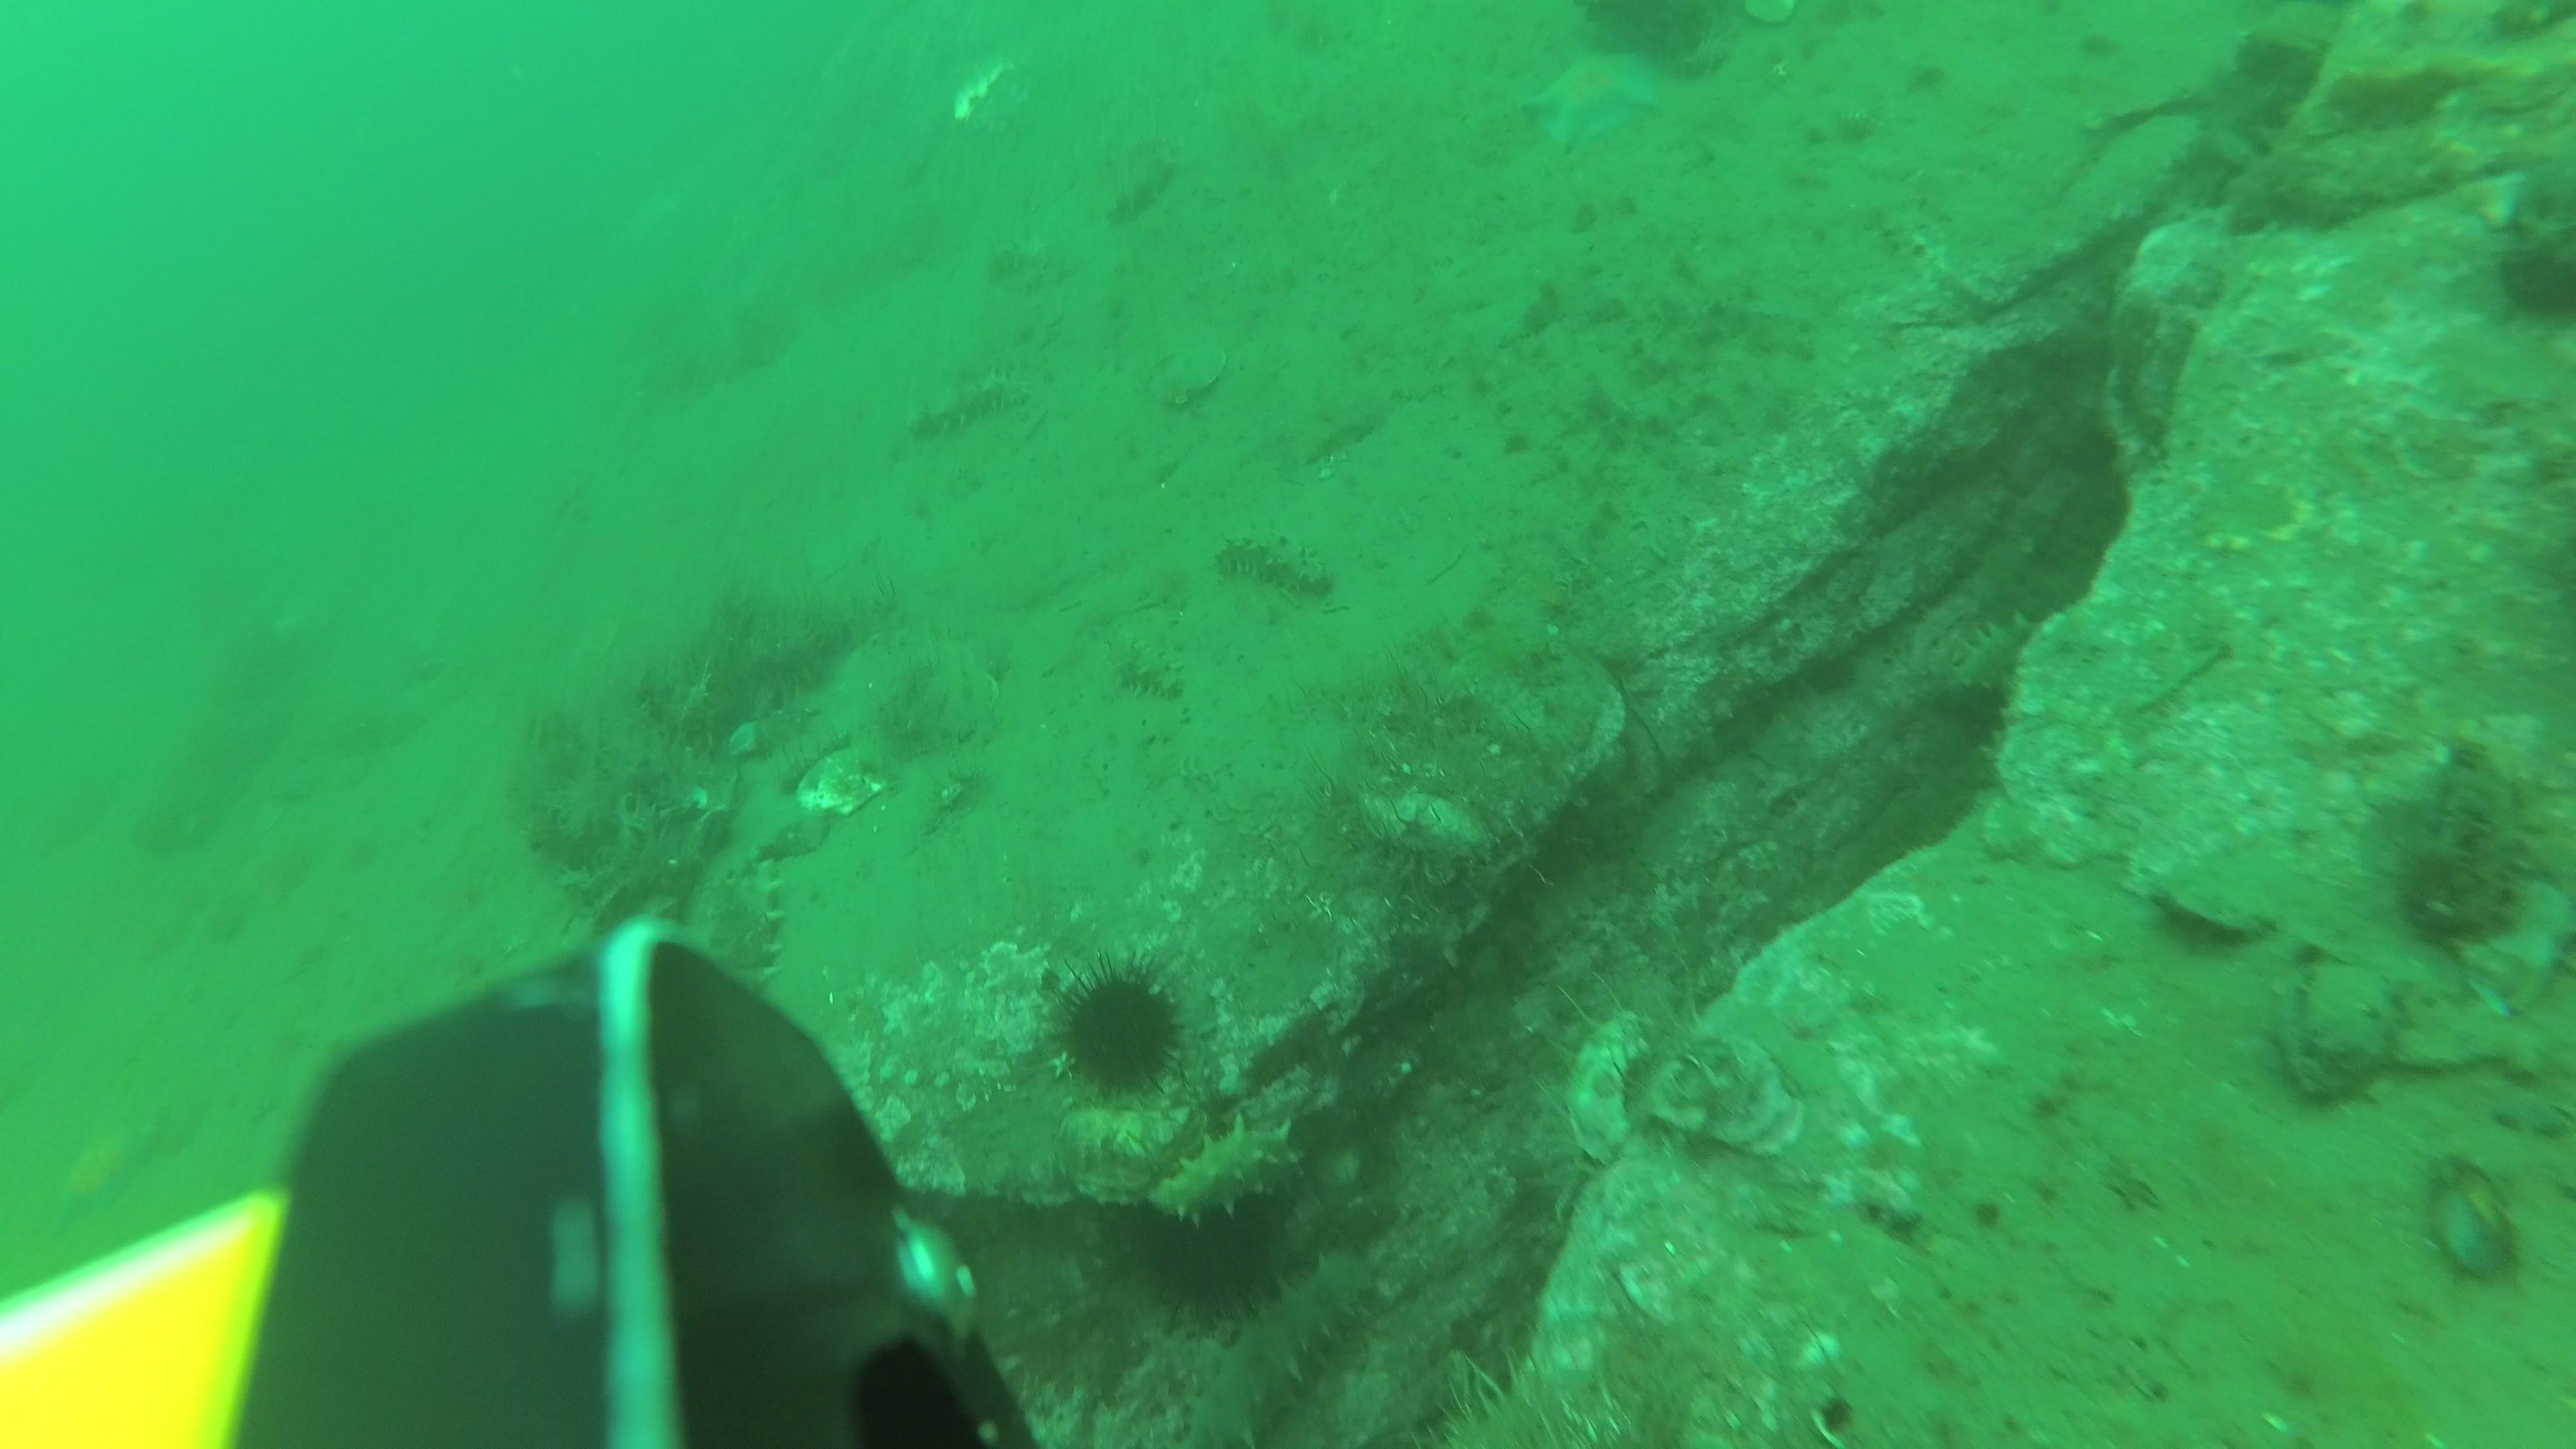echinus: (1044, 952, 1191, 1104), (1154, 1185, 1290, 1343)
holothurian: (1182, 1249, 1378, 1449), (1152, 1113, 1311, 1228), (704, 847, 787, 1054), (1964, 614, 2063, 780), (1215, 531, 1330, 602), (916, 375, 1021, 439), (1108, 150, 1177, 230), (989, 237, 1062, 290), (1120, 646, 1187, 702)
scallop: (801, 747, 888, 824), (920, 672, 1000, 750), (893, 635, 971, 715), (1152, 350, 1228, 414), (1741, 0, 1801, 25)
starfish: (1530, 51, 1665, 156), (58, 1113, 163, 1230)
